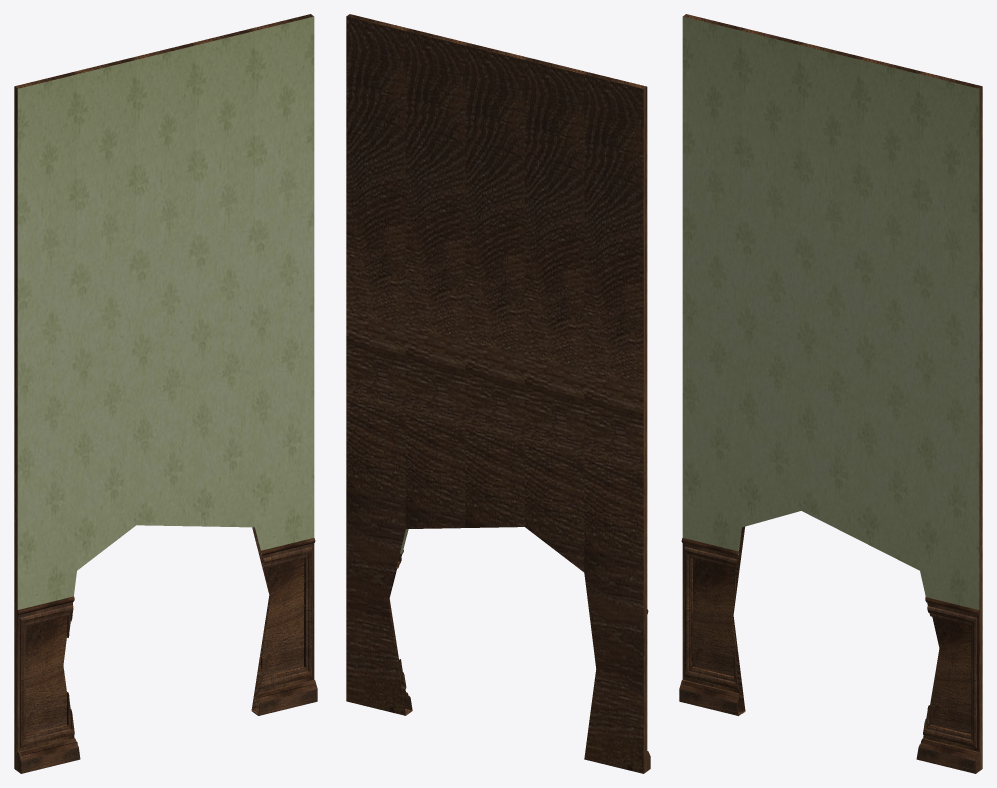
The model's file is Mur_V1_Trou_2.fbx.
3 views of the same model, side by side, from view 1: azimuth 30°, elevation 25°; view 2: azimuth 150°, elevation 25°; view 3: azimuth 330°, elevation 25° (orthographic).
Visible parts, largest first — view 1: Cube; view 2: Cube; view 3: Cube.
Part boxes in pixels (left/top/right/bottom): Cube: left=14, top=14, right=317, bottom=773; Cube: left=346, top=14, right=650, bottom=773; Cube: left=679, top=14, right=982, bottom=773.
Bounding box in the file's own units: 500 × 1102 × 20.
